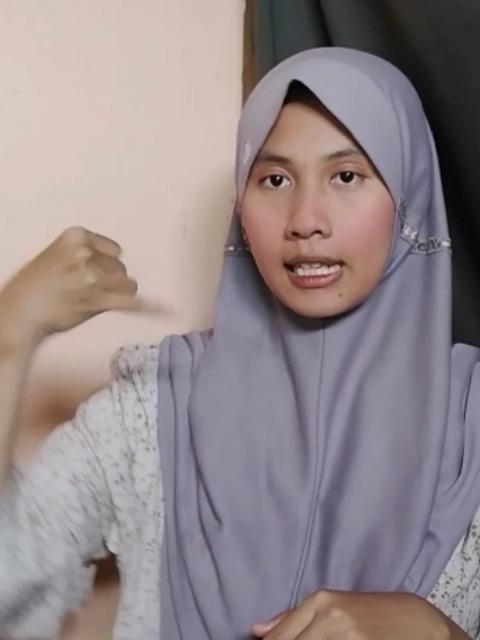J: (0, 223, 180, 357)
